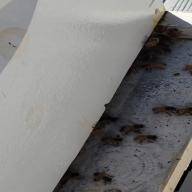Bee: (150, 103, 192, 121)
